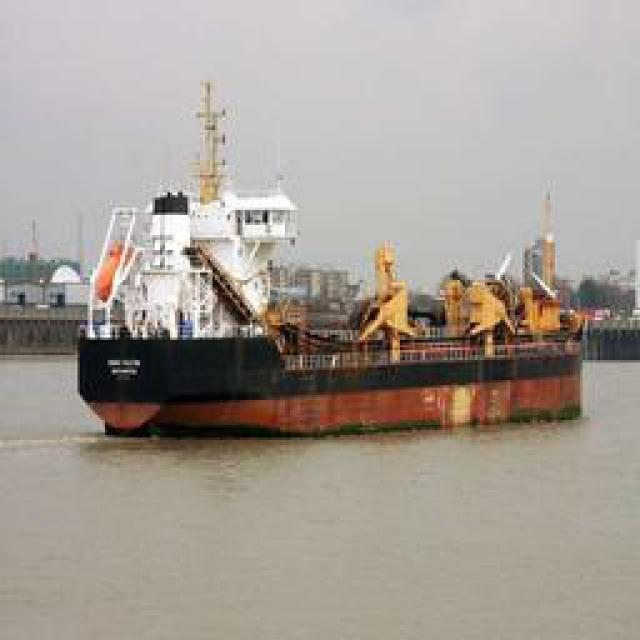Ship: (79, 152, 602, 442)
